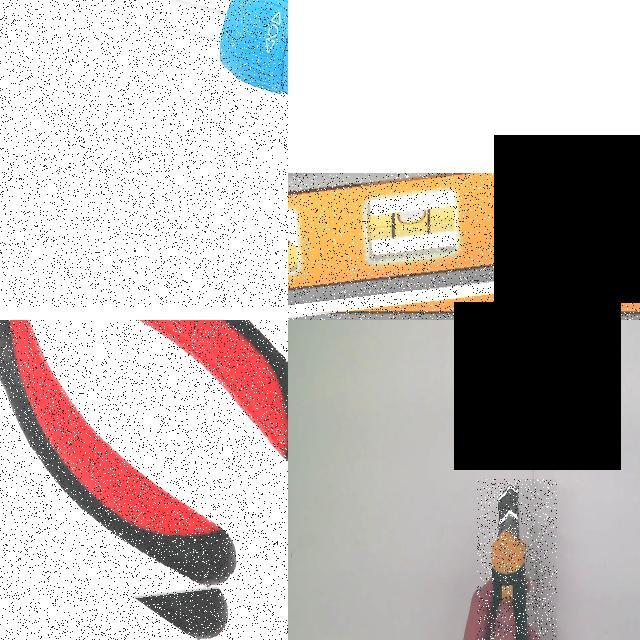estilete: (485, 489, 528, 639)
